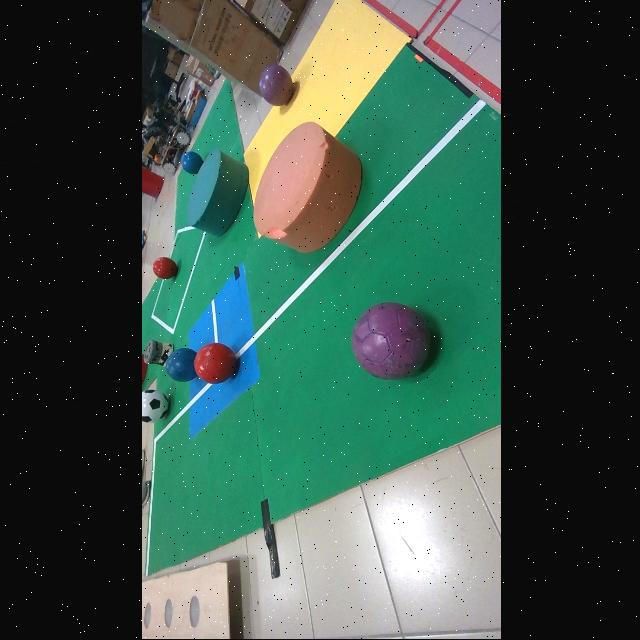B: (163, 349, 195, 382), (179, 152, 201, 175)
P: (349, 302, 428, 381), (257, 65, 291, 106)
R: (191, 343, 235, 384), (150, 257, 175, 279)
